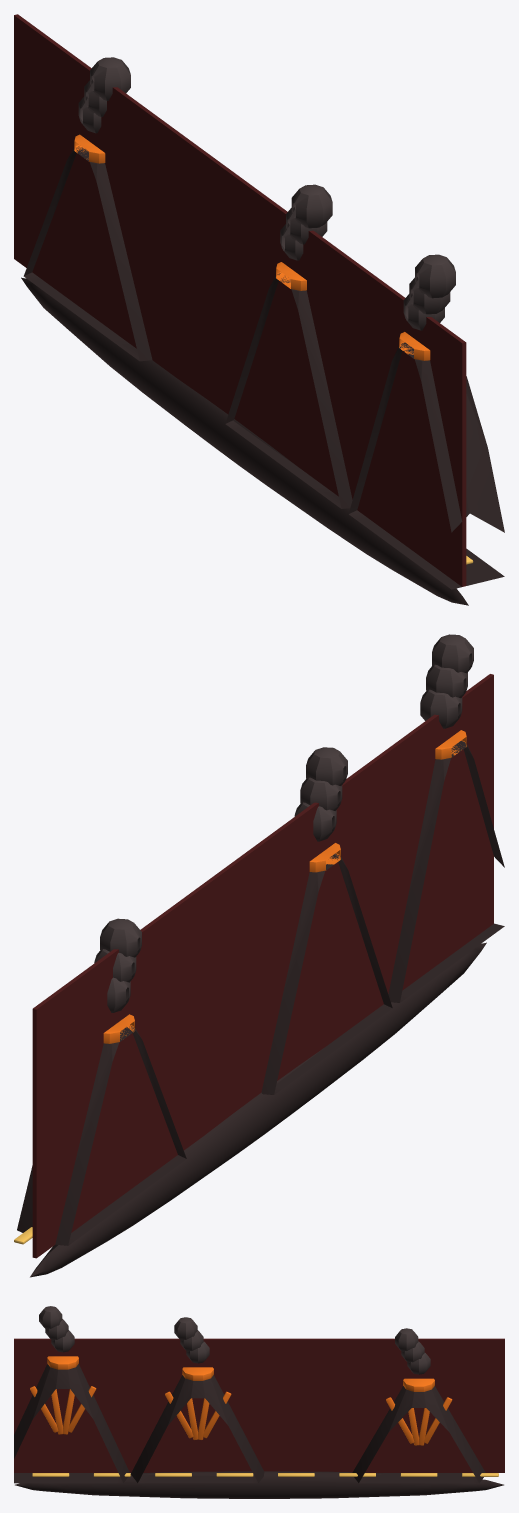
Rendered from BackdropFire.fbx.
3 renders of one model, top to bottom at view 1: azimuth 30°, elevation 25°; view 2: azimuth 150°, elevation 25°; view 3: azimuth 270°, elevation 25°, orthographic. The views are drawn at different scales.
Parts seen in each view (by area): view 1: BackdropFire; view 2: BackdropFire; view 3: BackdropFire.
Part boxes in pixels (x1,y1,x2,y2): BackdropFire: [14, 14, 504, 605]; BackdropFire: [14, 634, 504, 1277]; BackdropFire: [14, 1306, 504, 1498].
Bounding box in the file's own units: 550 × 3440 × 8000.
